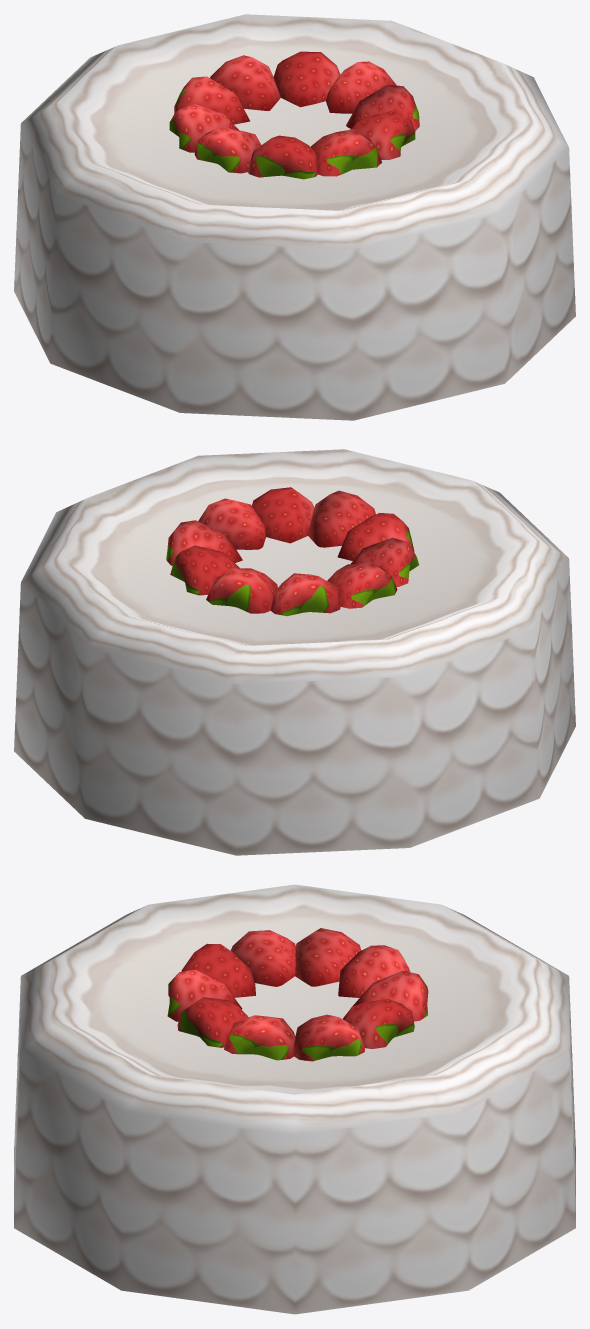
The model's file is Shortcake_Whole.fbx.
The picture shows the model from 3 angles, top to bottom: view 1: azimuth 30°, elevation 25°; view 2: azimuth 150°, elevation 25°; view 3: azimuth 270°, elevation 25°; orthographic projection. The views are drawn at different scales.
Visible parts, largest first — view 1: Shortcake_Whole; view 2: Shortcake_Whole; view 3: Shortcake_Whole.
Boxes of the visible parts, x1=… form: Shortcake_Whole: x1=14, y1=14, x2=575, y2=420; Shortcake_Whole: x1=14, y1=449, x2=575, y2=855; Shortcake_Whole: x1=14, y1=884, x2=575, y2=1314.
Size of the model in its own units: 83.14 by 34.44 by 79.07.
